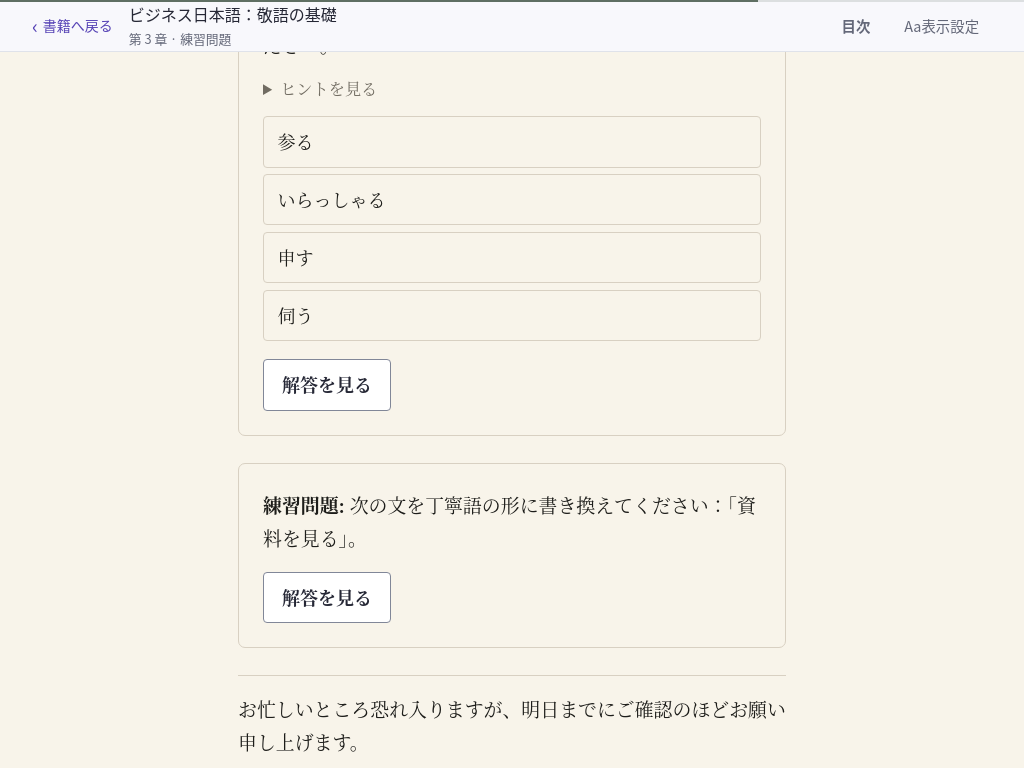
Test: exercise › reveals the answer inline on toggle and never scores
(page scrolled)
Expected: the text "「参る」「申す」「伺う」は謙譲語" is not shown
Click the button "解答を見る" below "伺う" at (327,385), box [263,359,391,410]
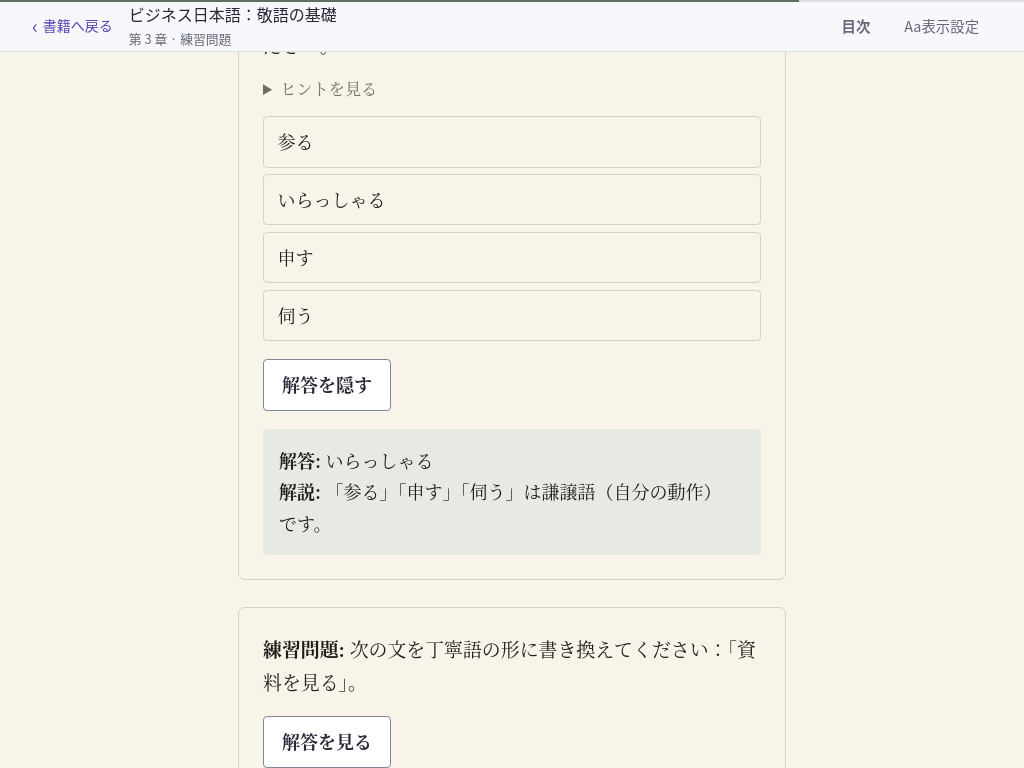
Now the button "解答を隠す" is expanded, box [263,359,391,410]
Now the text "解説: 「参る」「申す」「伺う」は謙譲語（自分の動作）です。" is shown, box [279,476,745,539]
